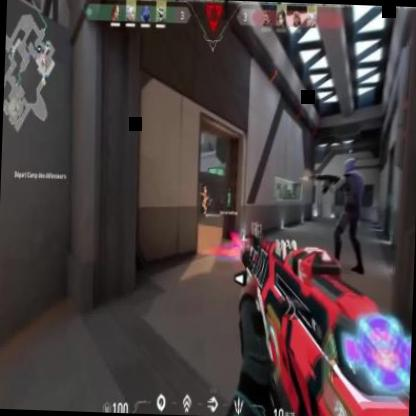enemy: (201, 185, 209, 215)
enemy_head: (204, 185, 206, 192)
